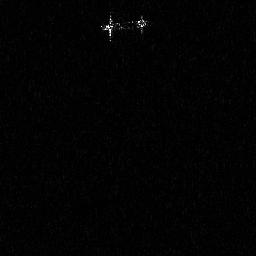ship: (99, 10, 152, 42)
